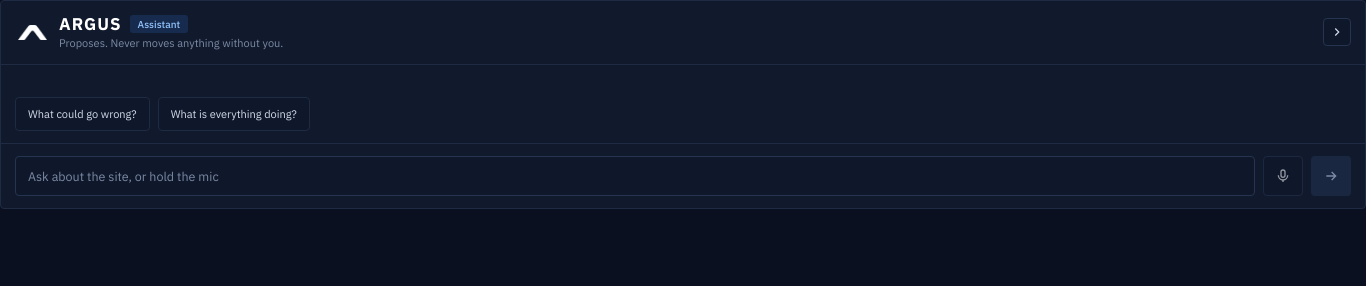
Test: a question › shows the answer and proposes nothing
In the field: (635, 176) [15,156,1255,196], type "where is Tessy"
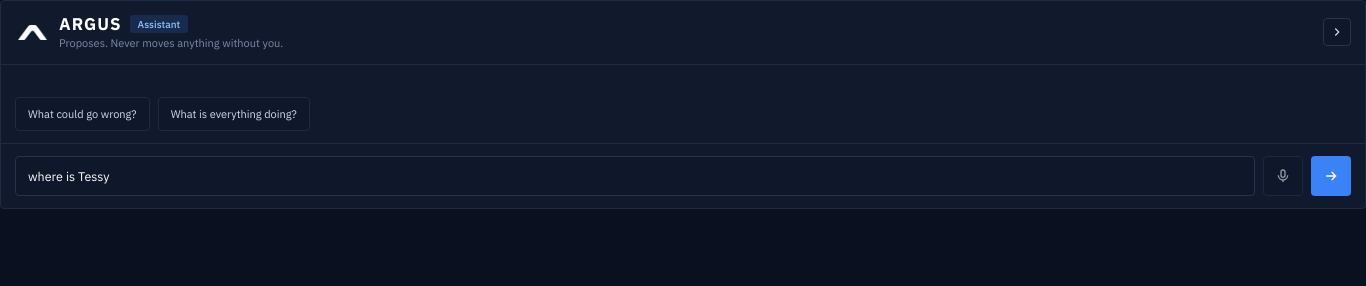
Submit the form, box [1,143,1365,208]
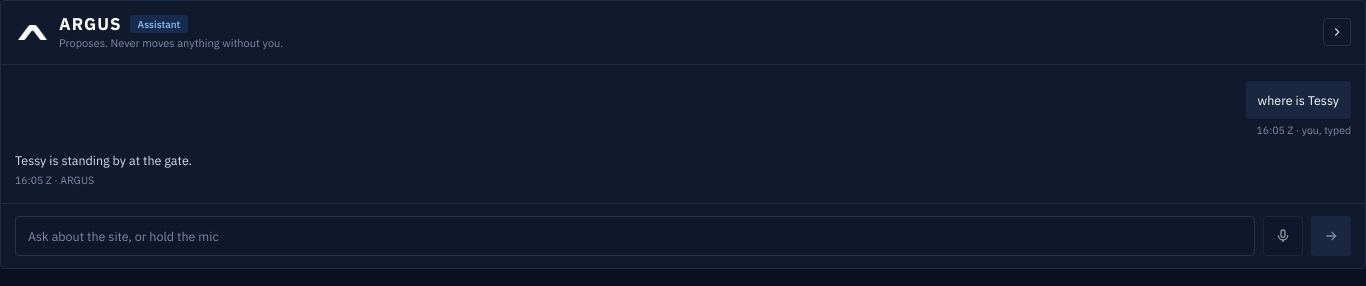
Expected: the text "Tessy is standing by at the gate." is shown, [15,152,192,168]
